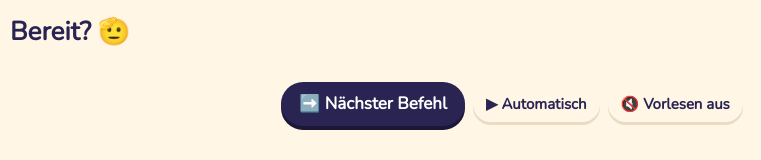
commands › Vorlesen schaltet um und spricht
The image size is (761, 160).
Click the button "🔇 Vorlesen aus".
click(675, 104)  # box [608,87,743,122]
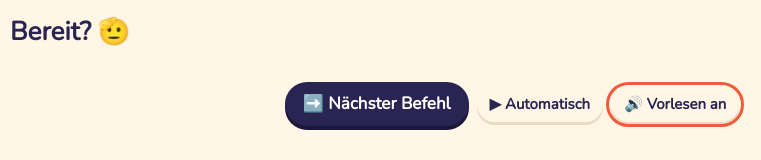
Result: the button "🔊 Vorlesen an" is shown at [611,87,739,122]
